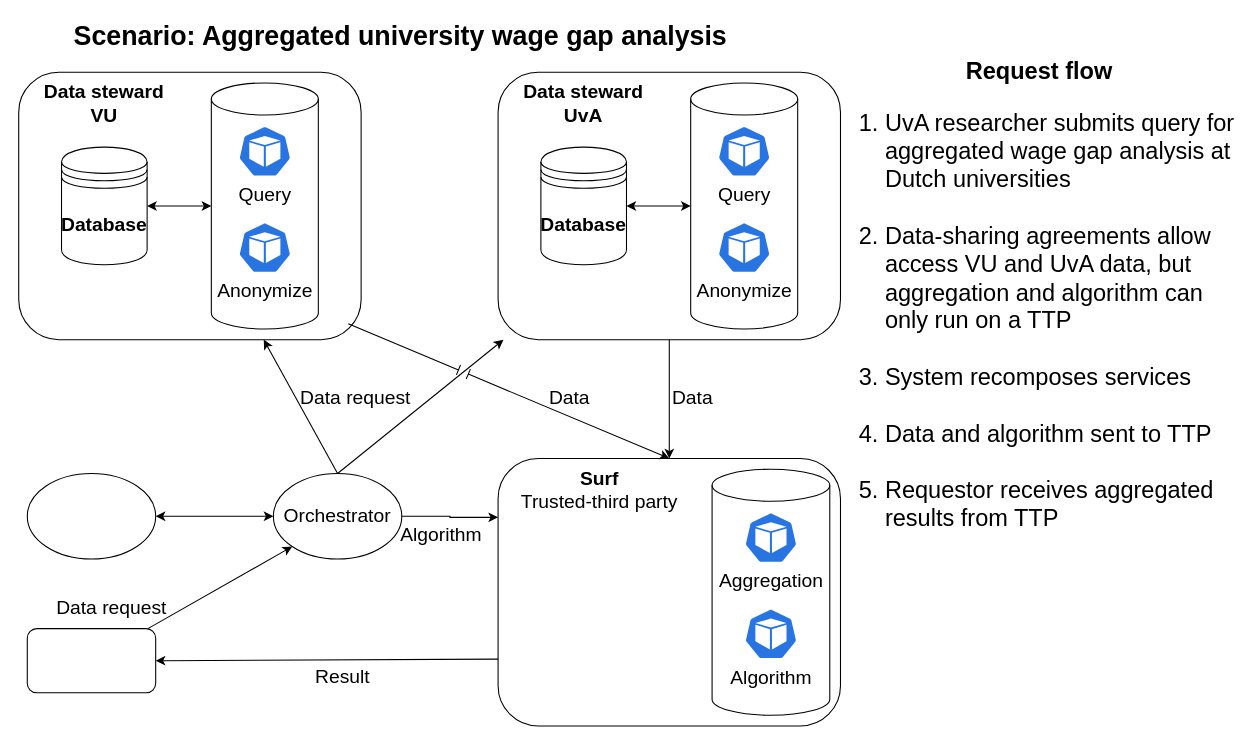
Image size: 1255x745. Some labels were removed from this diagram. The shapes that lost their labels are listed below. From the top down, each one's centre as x and y in pixels, then its label:
At [91,515]: "Reasoner".
At [91,660]: "Requestor UvA".
